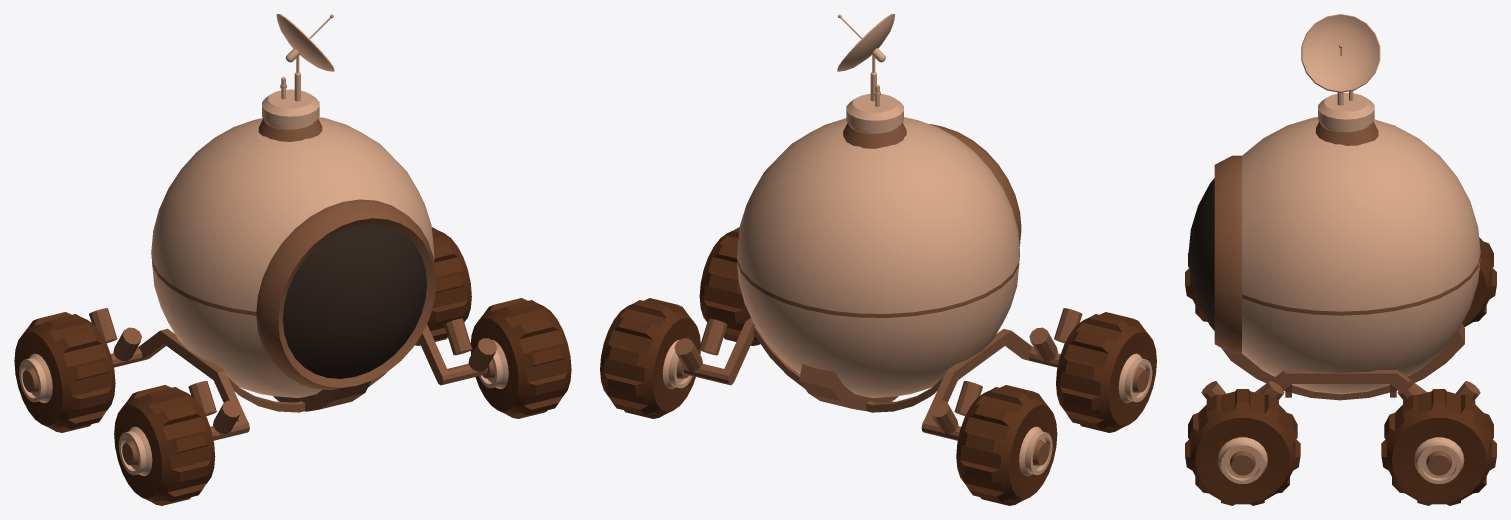
The model's file is quaternius-ultimate-space-pack-rover-round-transformed.glb.
The picture shows the model from 3 angles, left to right: view 1: azimuth 30°, elevation 25°; view 2: azimuth 150°, elevation 25°; view 3: azimuth 270°, elevation 25°; orthographic projection.
Visible parts, largest first — view 1: Wheel_1; view 2: Wheel_1; view 3: Wheel_1.
Part boxes in pixels (box(x1,y1,x2,y2)): Wheel_1: box(14, 14, 571, 505); Wheel_1: box(600, 14, 1156, 505); Wheel_1: box(1185, 14, 1496, 505).
Size of the model in its own units: 5.79 by 5.17 by 3.69.
1 material, 1 textured.
